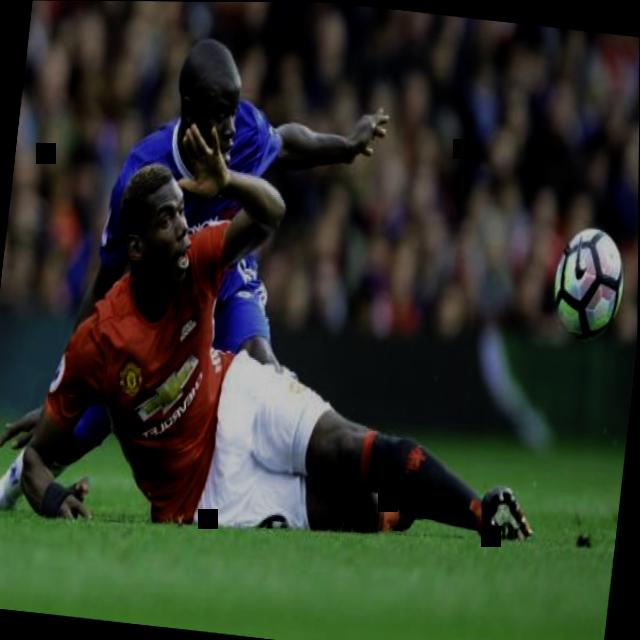Fall-Detected: (11, 141, 571, 570)
